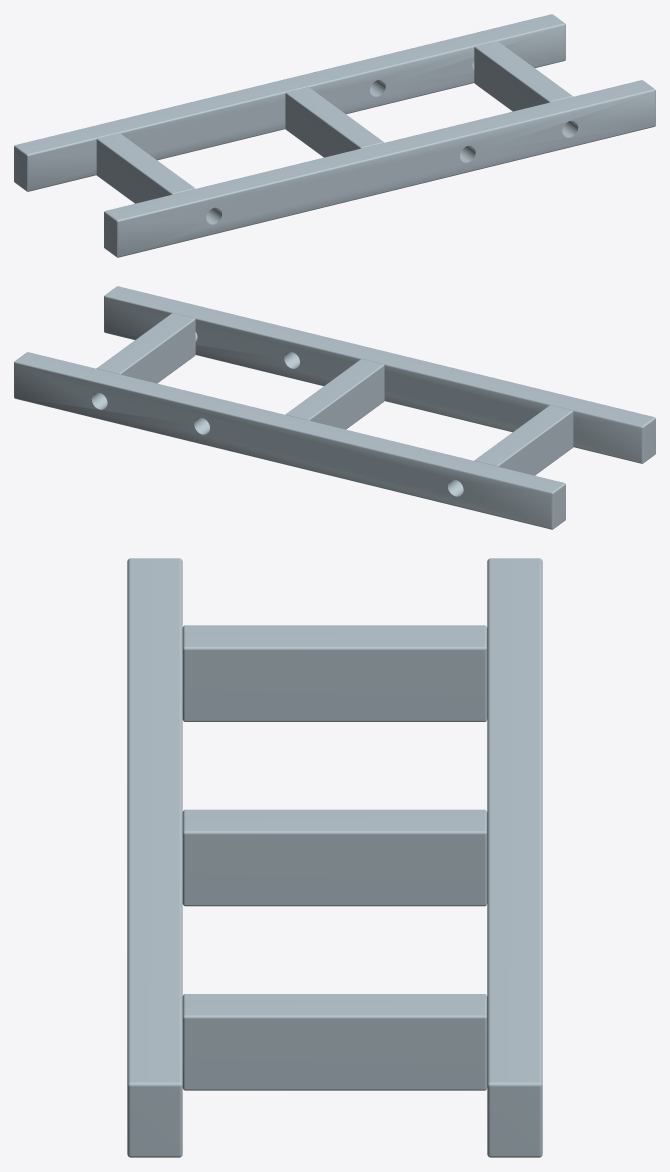
Rendered from chassis-drilled.glb.
The picture shows the model from 3 angles, top to bottom: view 1: azimuth 30°, elevation 25°; view 2: azimuth 150°, elevation 25°; view 3: azimuth 270°, elevation 25°; orthographic projection. The views are drawn at different scales.
Visible parts, largest first — view 1: chassis_drilled_Product_Metal; view 2: chassis_drilled_Product_Metal; view 3: chassis_drilled_Product_Metal.
Boxes of the visible parts, x1,y1,x2,y2 form: chassis_drilled_Product_Metal: (14,14,655,257); chassis_drilled_Product_Metal: (14,286,655,529); chassis_drilled_Product_Metal: (127,558,542,1157).
Size of the model in its own units: 1.8 by 0.12 by 0.6.
